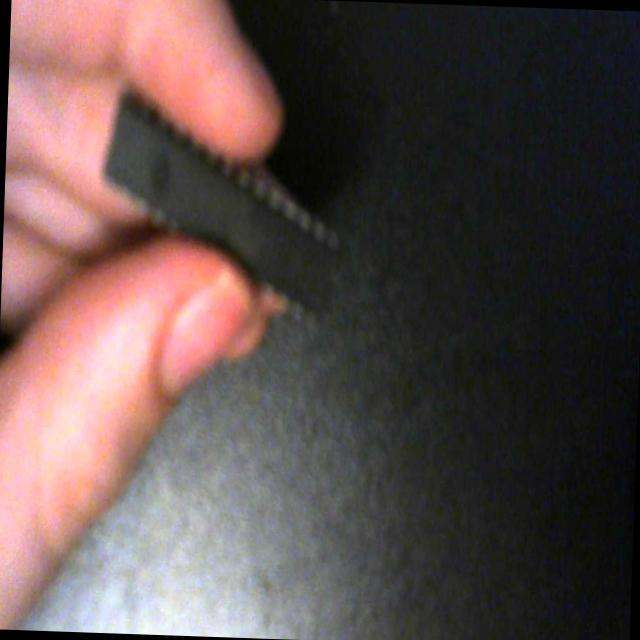atmega: (90, 51, 349, 342)
